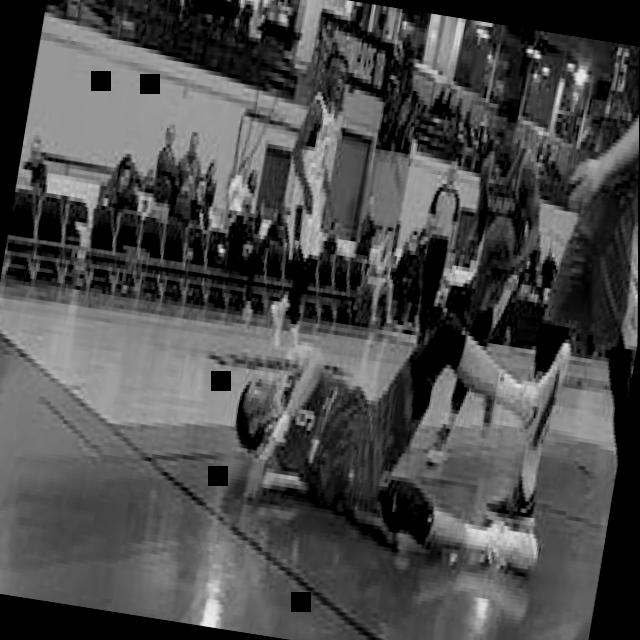Fall-Detected: (201, 229, 593, 584)
